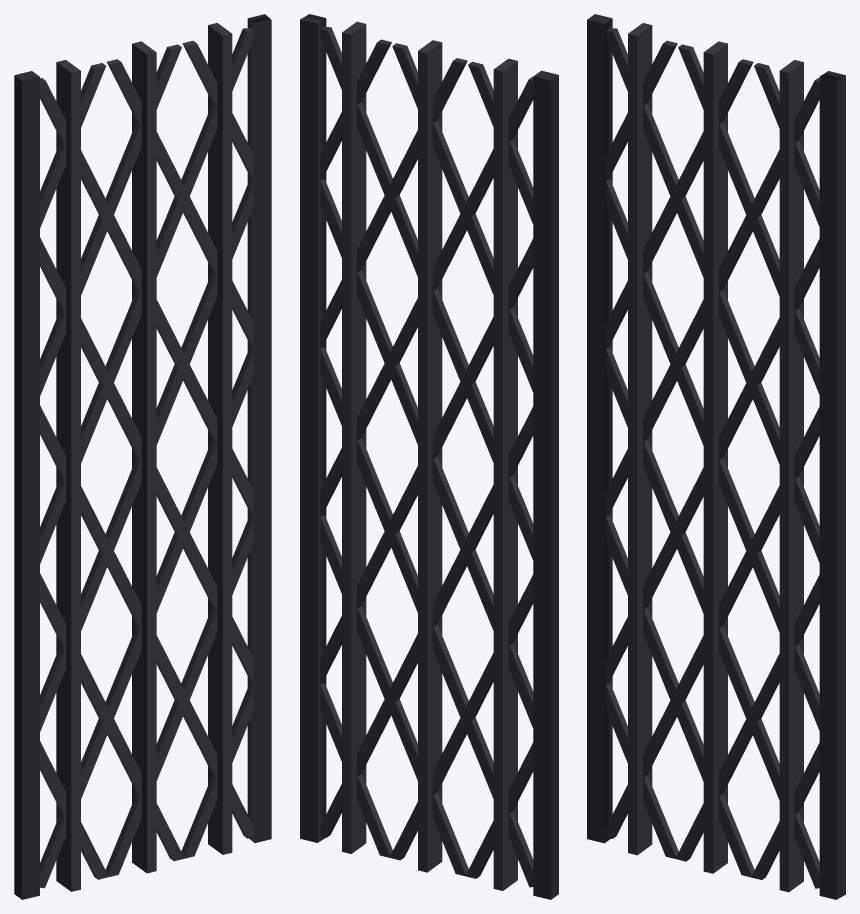
File: SM_Bld_Wall_Elevator_Door_01.fbx
3 renders of one model, left to right at view 1: azimuth 30°, elevation 25°; view 2: azimuth 150°, elevation 25°; view 3: azimuth 330°, elevation 25°, orthographic.
Parts seen in each view (by area): view 1: SM_Bld_Wall_Elevator_Door_01; view 2: SM_Bld_Wall_Elevator_Door_01; view 3: SM_Bld_Wall_Elevator_Door_01.
Boxes of the visible parts, bbox=[...] form: SM_Bld_Wall_Elevator_Door_01: bbox=[14, 14, 271, 899]; SM_Bld_Wall_Elevator_Door_01: bbox=[300, 14, 558, 899]; SM_Bld_Wall_Elevator_Door_01: bbox=[587, 14, 845, 899].
Size of the model in its own units: 74.89 by 234 by 7.72.
1 material, 1 textured.
